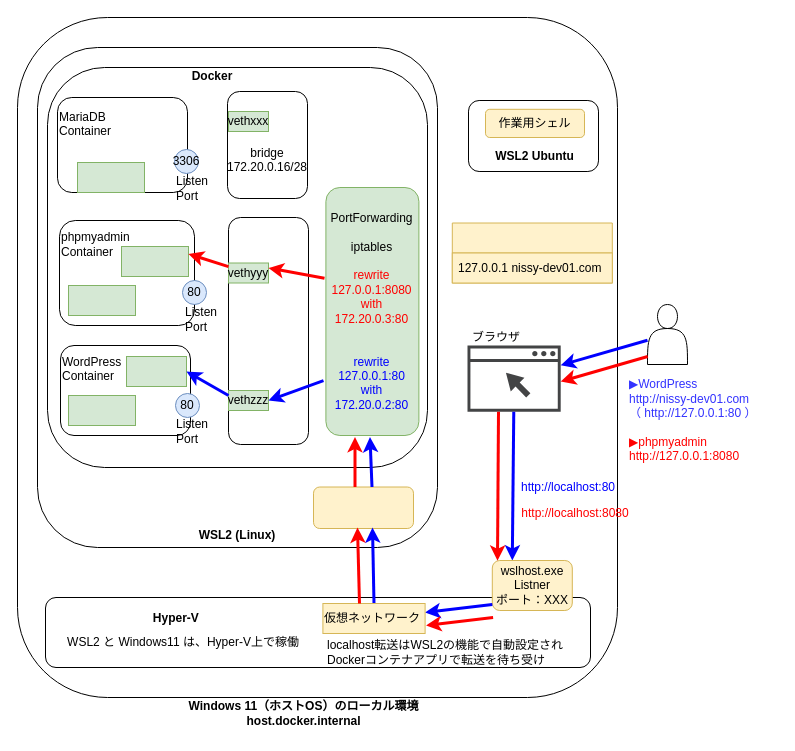
Image size: 795x751. Some labels were removed from this diagram. The shapes that lost their labels are listed below. From the top down, each one's box as (x1, y1, x2, y2) in pixels, then its label:
(76, 162, 144, 192): eth0 172.20.0.20
(120, 246, 188, 276): eth0 172.20.0.3
(451, 222, 612, 283): hosts ( OS Windows )
(68, 284, 136, 316): eth1 172.20.0.19
(228, 216, 308, 444): bridge 172.20.0.0/28
(126, 356, 186, 386): eth0 172.20.0.2
(68, 394, 136, 426): eth1 172.20.0.18
(312, 486, 414, 528): TCP／IPスタック Linux カーネル
